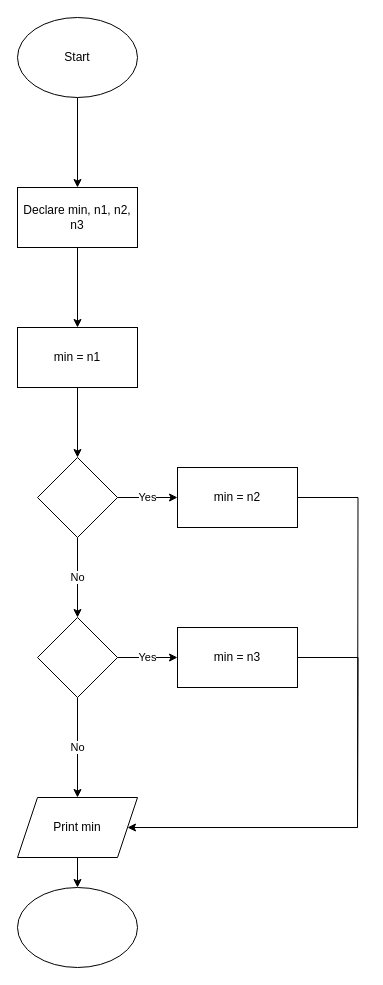
The diagram is 383 pixels wide and 985 high, and some of its shapes have lost their labels. The shapes that lost their labels are listed below. From the top down, each one's box as (x1, y1, x2, y2) in pixels, then its label:
(36, 456, 118, 538): n2 < min ?
(36, 616, 118, 698): n3 < min ?
(16, 886, 138, 968): End
